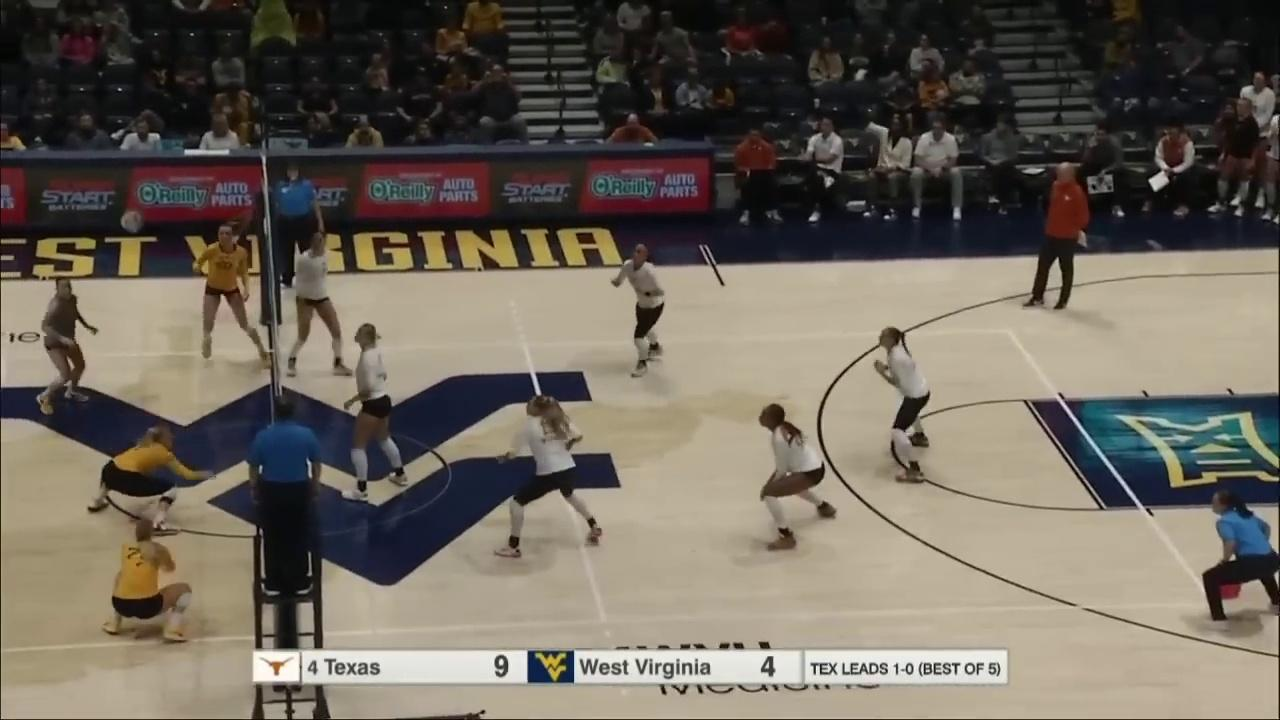player: (496, 394, 604, 562), (335, 319, 411, 505), (87, 427, 209, 534), (752, 403, 836, 553), (100, 520, 195, 645), (199, 226, 267, 361), (875, 326, 931, 482), (291, 232, 351, 377), (37, 276, 101, 411), (607, 246, 668, 380)
refree: (248, 396, 323, 601), (1200, 491, 1280, 623), (266, 163, 324, 290)
